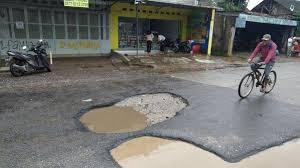Pothole: (101, 134, 300, 168), (57, 87, 197, 134)
